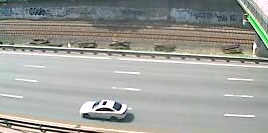car: (77, 98, 133, 123)
